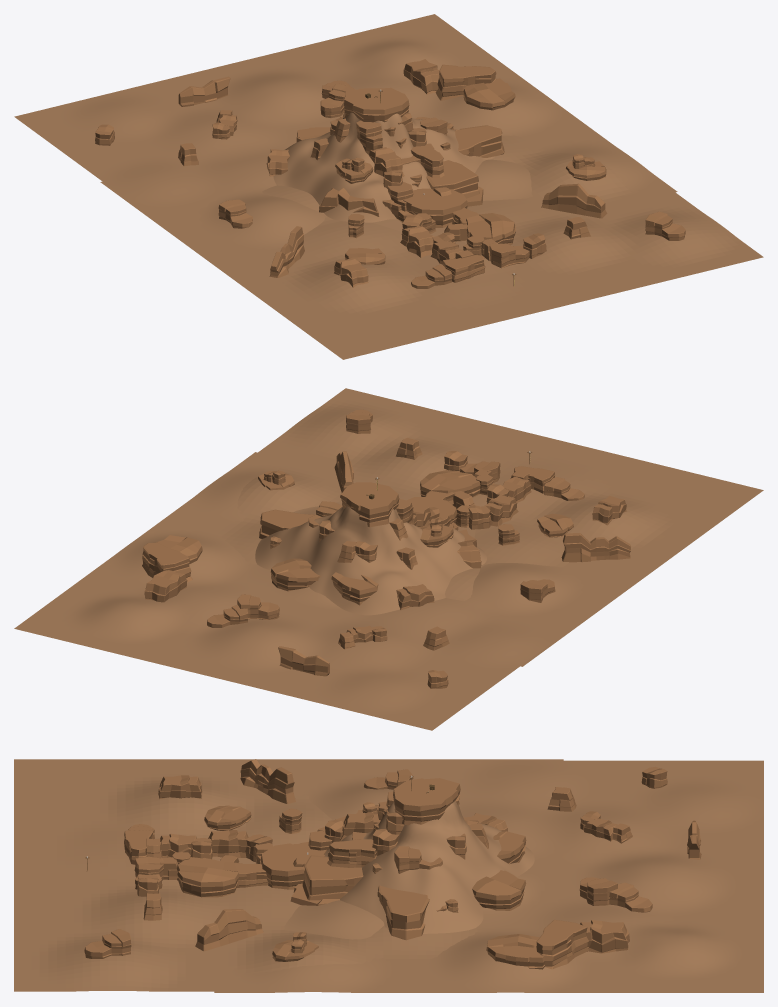
File: Final_lvl3.fbx
The picture shows the model from 3 angles, top to bottom: view 1: azimuth 30°, elevation 25°; view 2: azimuth 150°, elevation 25°; view 3: azimuth 270°, elevation 25°; orthographic projection. The views are drawn at different scales.
Visible parts, largest first — view 1: ground_B, ground_A, ground_Canyon, rocks_canyon.066, rocks_canyon.072, rocks_canyon.062, rocks_canyon.049, rocks_canyon.032, rocks_canyon.071, rocks_canyon.063, rocks_canyon.023, rocks_canyon.061 (+14 smaller); view 2: ground_B, ground_A, ground_Canyon, rocks_canyon.066, rocks_canyon.061, rocks_canyon.049, rocks_canyon.063, rocks_canyon.069, rocks_canyon.050, rocks_canyon.060, rocks_canyon.070, rocks_canyon.032 (+10 smaller); view 3: ground_B, ground_A, ground_Canyon, rocks_canyon.066, rocks_canyon.063, rocks_canyon.032, rocks_canyon.023, rocks_canyon.049, rocks_canyon.072, rocks_canyon.062, rocks_canyon.069, rocks_canyon.061 (+28 smaller).
Boxes of the visible parts, x1,y1,x2,y2 form: ground_B: (14, 14, 677, 294); ground_A: (100, 79, 763, 359); ground_Canyon: (273, 112, 495, 222); rocks_canyon.066: (343, 87, 409, 122); rocks_canyon.072: (403, 188, 467, 227); rocks_canyon.062: (541, 183, 607, 218); rocks_canyon.049: (435, 64, 496, 100); rocks_canyon.032: (454, 125, 504, 157); rocks_canyon.071: (463, 78, 515, 110); rocks_canyon.063: (466, 213, 515, 245); rocks_canyon.023: (426, 160, 479, 198); rocks_canyon.061: (269, 226, 304, 277); ground_B: (14, 452, 669, 730); ground_A: (104, 388, 763, 666); ground_Canyon: (255, 506, 486, 615); rocks_canyon.066: (340, 482, 399, 527); rocks_canyon.061: (561, 533, 630, 562); rocks_canyon.049: (142, 542, 192, 582); rocks_canyon.063: (420, 470, 480, 497); rocks_canyon.069: (270, 558, 320, 591); rocks_canyon.050: (144, 570, 187, 602); rocks_canyon.060: (278, 646, 329, 676); rocks_canyon.070: (331, 572, 378, 605); rocks_canyon.032: (259, 509, 315, 538); ground_B: (214, 760, 763, 992); ground_A: (14, 759, 563, 991); ground_Canyon: (324, 801, 534, 933); rocks_canyon.066: (393, 778, 460, 825); rocks_canyon.063: (177, 857, 239, 897); rocks_canyon.032: (377, 885, 429, 940); rocks_canyon.023: (302, 855, 363, 900); rocks_canyon.049: (536, 920, 588, 969); rocks_canyon.072: (260, 843, 326, 889); rocks_canyon.062: (195, 909, 263, 951); rocks_canyon.069: (472, 870, 526, 910); rocks_canyon.061: (240, 759, 295, 803).
Bounding box in the file's own units: 80444 × 19401 × 109157.
